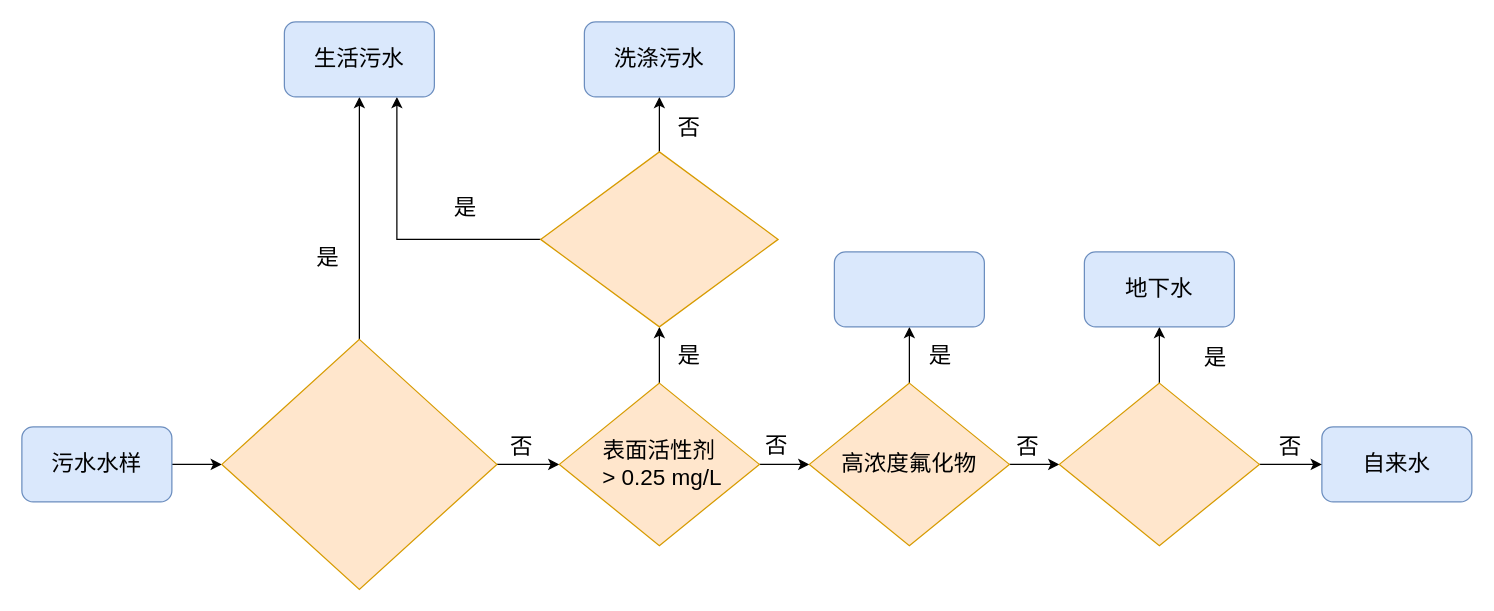
This 1494x611 diagram has some shape labels left out. Each missing label, with the box of its shape:
大肠杆菌 > 120000 MPN/L 或 肠球菌 > 50000 MPN/L: (221, 338, 497, 589)
工业污水: (833, 251, 984, 327)
表面活性剂 / 氨氮 < 0.2 且 氨氮 / 钾 >1.0: (539, 151, 778, 327)
高钙镁离子浓度: (1058, 382, 1259, 546)
